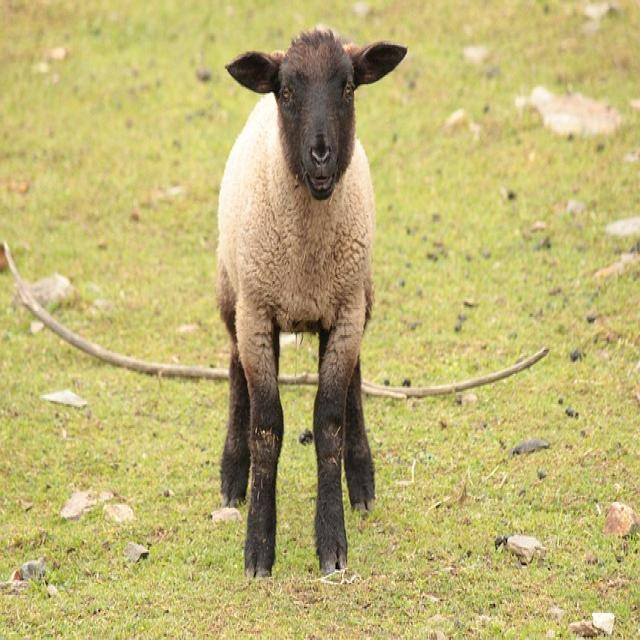goat: (217, 29, 407, 580)
